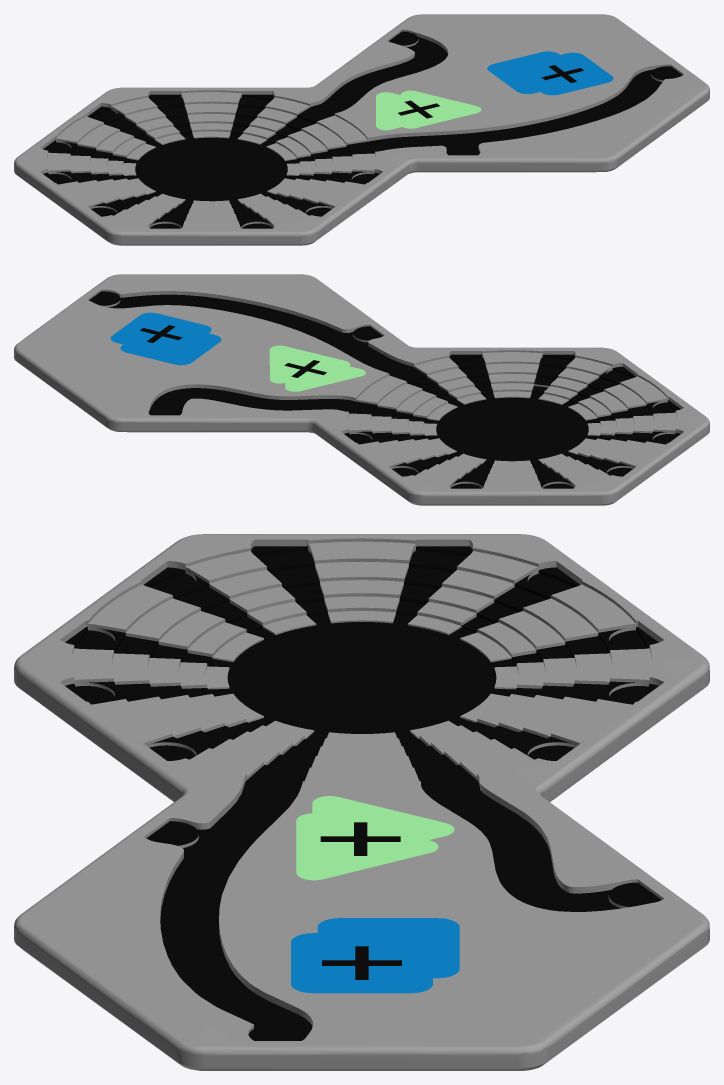
File: mine-1.glb
3 views of the same model, one above another, from view 1: azimuth 30°, elevation 25°; view 2: azimuth 150°, elevation 25°; view 3: azimuth 270°, elevation 25° (orthographic). The views are drawn at different scales.
Parts seen in each view (by area): view 1: mine-1; view 2: mine-1; view 3: mine-1.
Part boxes in pixels (x1=…): mine-1: x1=14, y1=14, x2=709, y2=245; mine-1: x1=14, y1=274, x2=709, y2=505; mine-1: x1=14, y1=534, x2=709, y2=1070.
Size of the model in its own units: 138 by 3 by 78.26.
